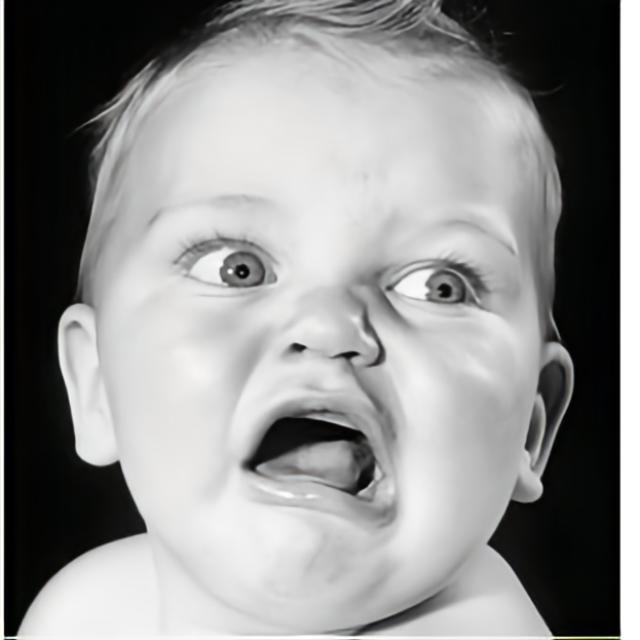fear: (101, 66, 548, 620)
